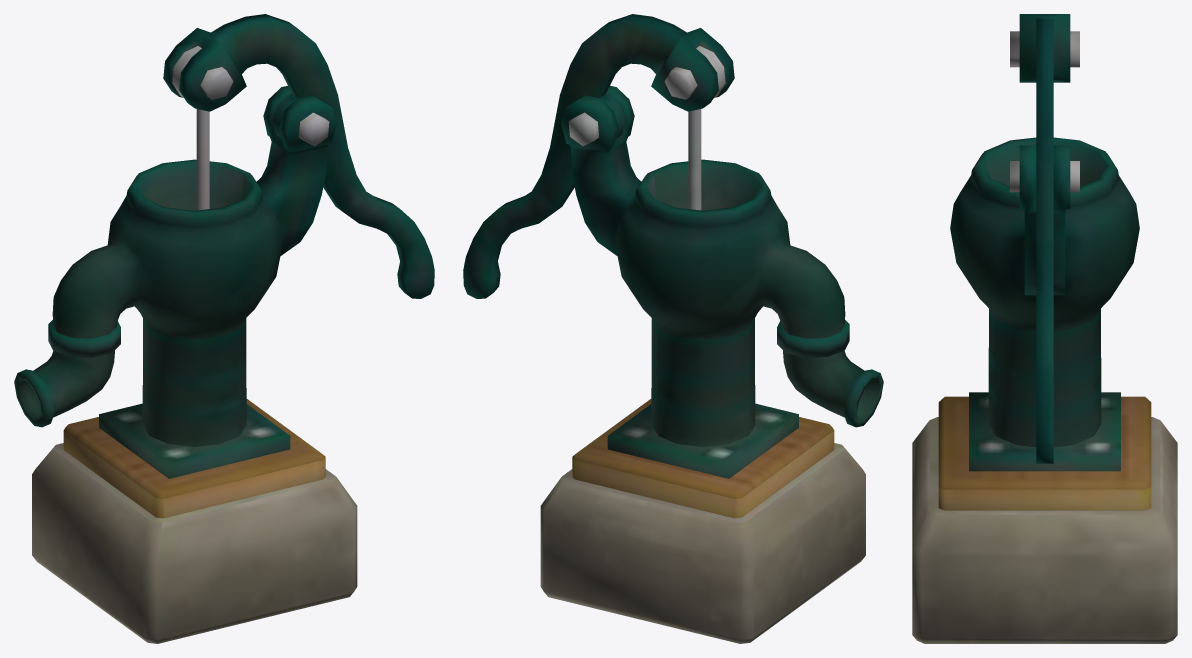
The model's file is pump.glb.
The picture shows the model from 3 angles, left to right: view 1: azimuth 30°, elevation 25°; view 2: azimuth 150°, elevation 25°; view 3: azimuth 270°, elevation 25°; orthographic projection. The views are drawn at different scales.
Bounding box in the file's own units: 9.75 × 12.51 × 5.1.
1 material, 1 textured.
